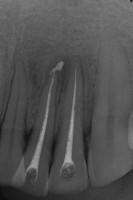Furcation Involvement: (44, 55, 80, 92)
